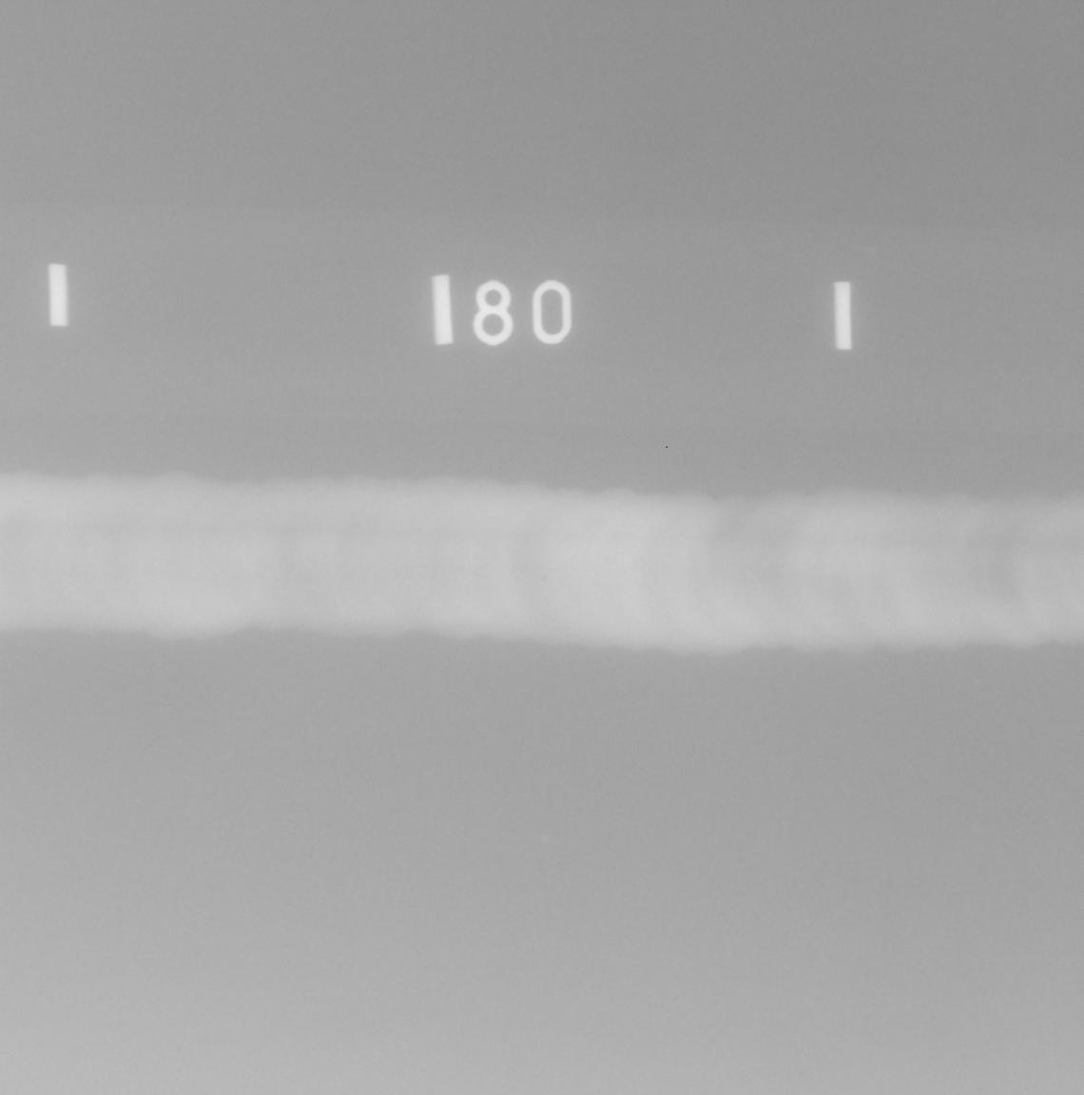Pore/Porosity: (482, 547, 488, 552), (542, 576, 547, 581)
